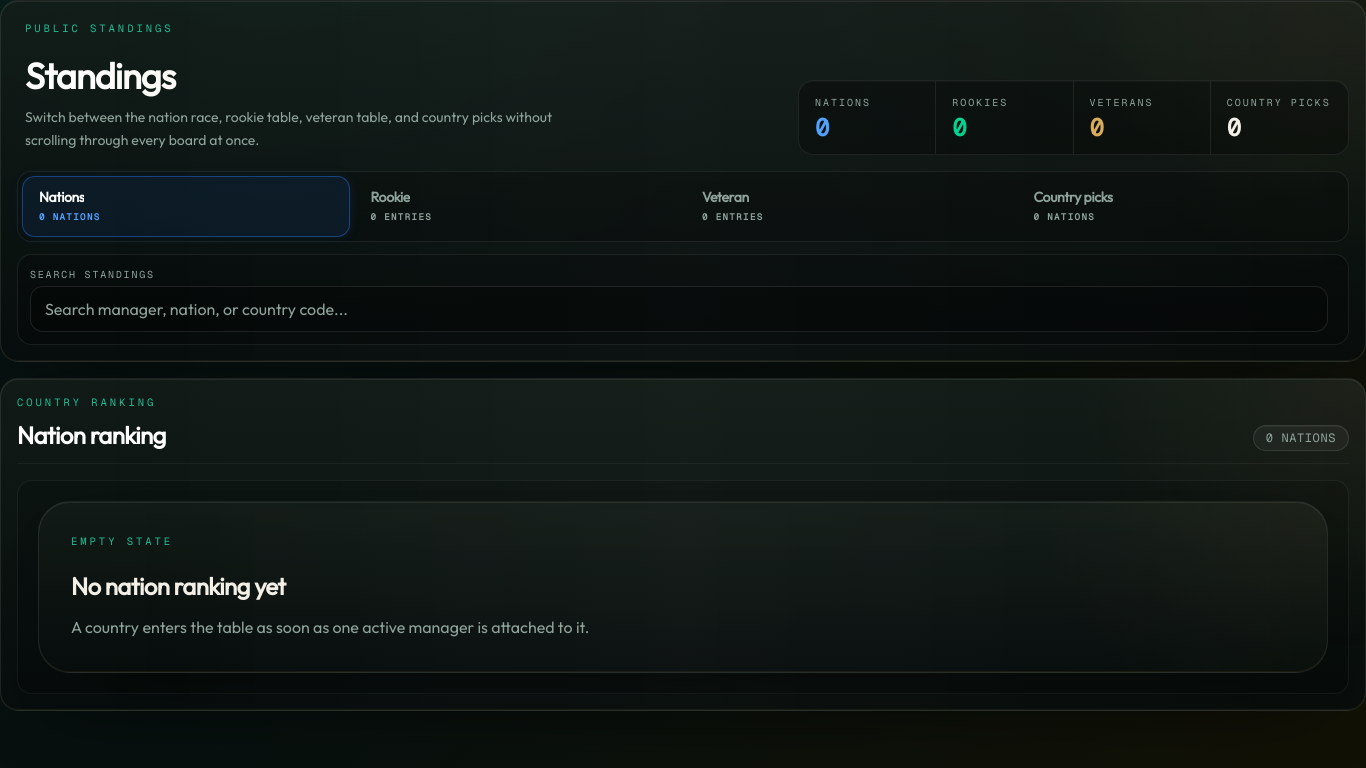
Scenario: TablesPage partial loading › renders the boards that succeeded and an error only for the one that failed
Check: the text "Rookie" is shown, box [370,189,410,207]
Check: the heading "Nation ranking" is shown, box [17,419,166,451]
Click the tab "Veteran 0 entries".
click(725, 197)  # box [685,176,1012,237]
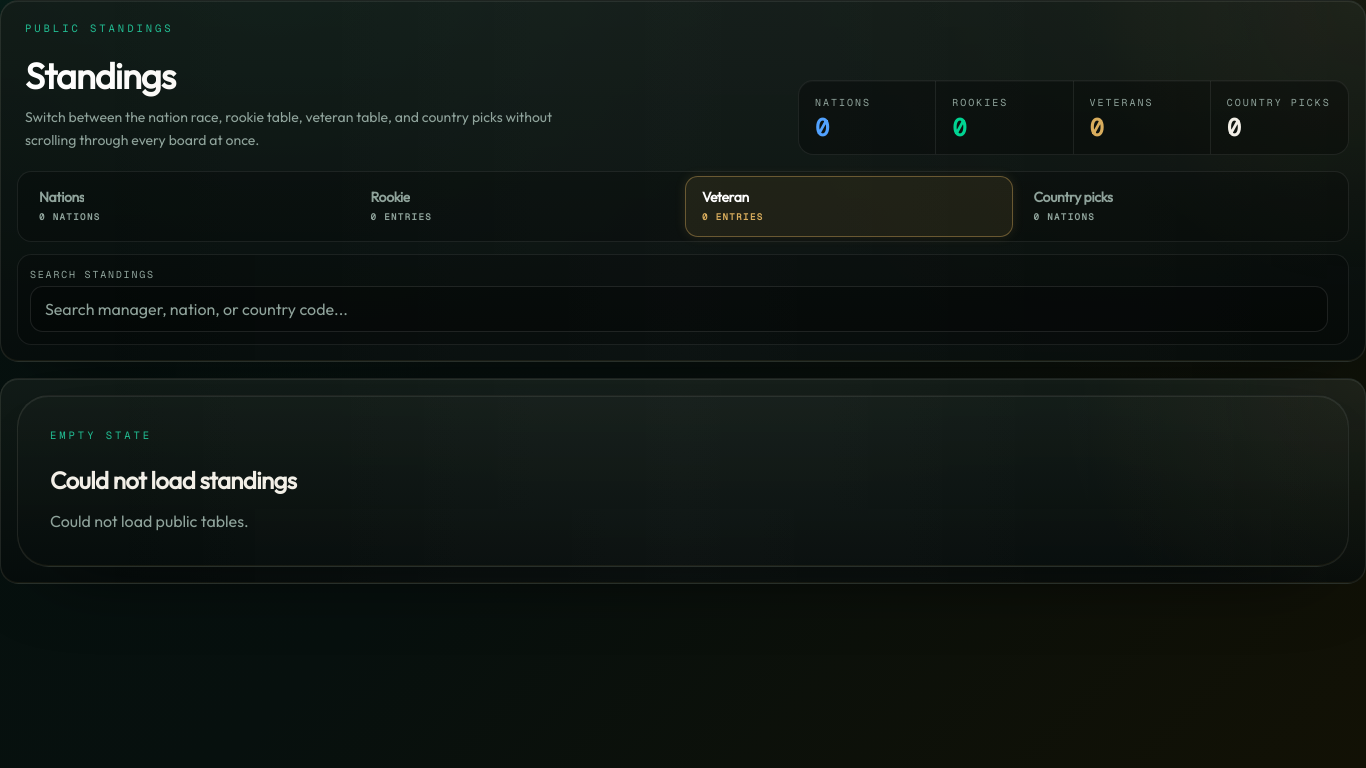
Check: the heading "Could not load standings" is shown, box [50,465,296,495]
